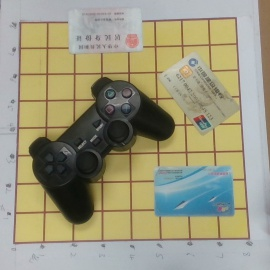card: (156, 50, 240, 137), (152, 165, 235, 217), (66, 6, 144, 55)
remote: (27, 74, 174, 224)
